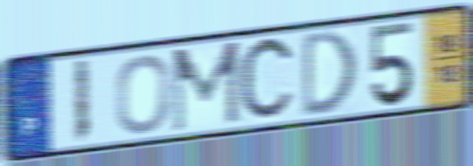5: (368, 18, 415, 109)
C: (237, 31, 299, 128)
D: (300, 26, 359, 122)
I: (72, 56, 92, 147)
M: (170, 38, 242, 136)
O: (113, 52, 173, 137)
